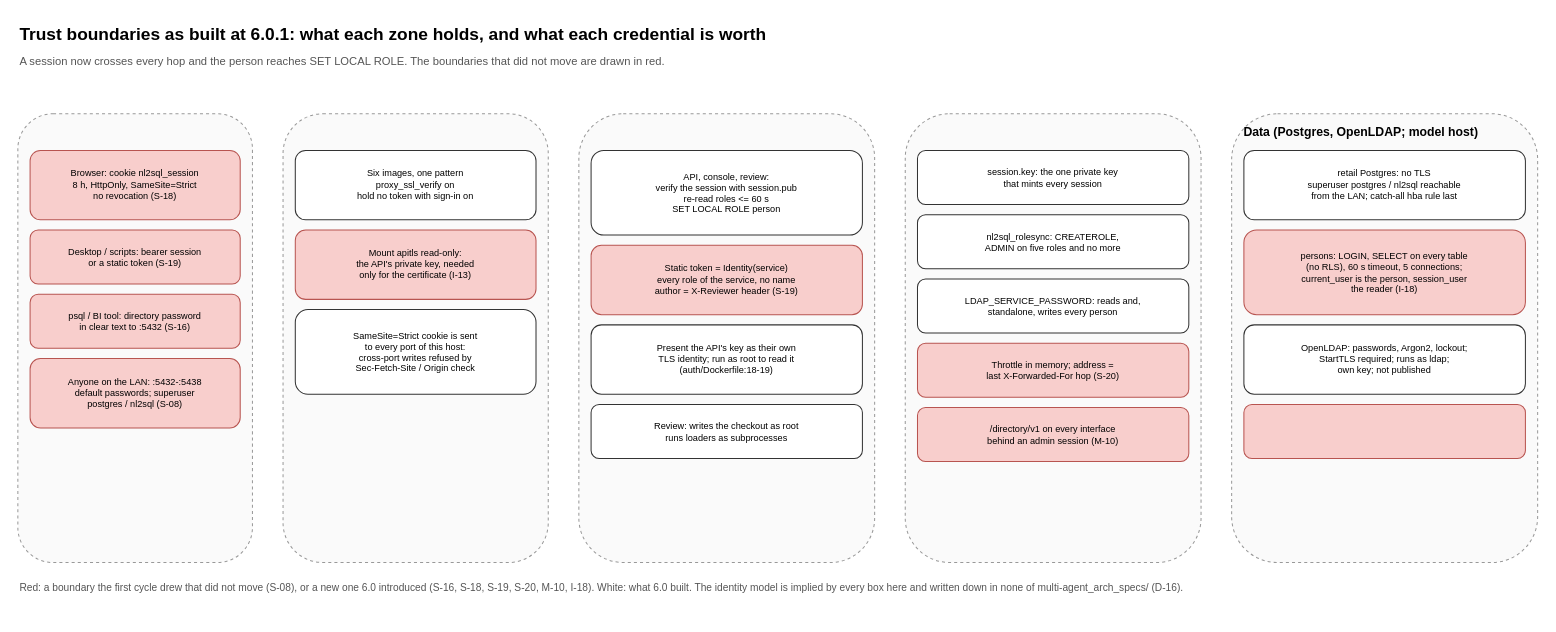
This 1556x632 diagram has some shape labels left out. The box of each missing label's shape, as (x1, y1, x2, y2) in pixels:
Auth service (Python, root): (904, 113, 1201, 563)
Model host (remote by default): sample rows and result rows (I-05): (1243, 403, 1525, 458)
Outside the stack: (17, 113, 252, 563)
Pages (nginx, root): (282, 113, 548, 563)
Services (Python, root): (578, 113, 875, 563)
